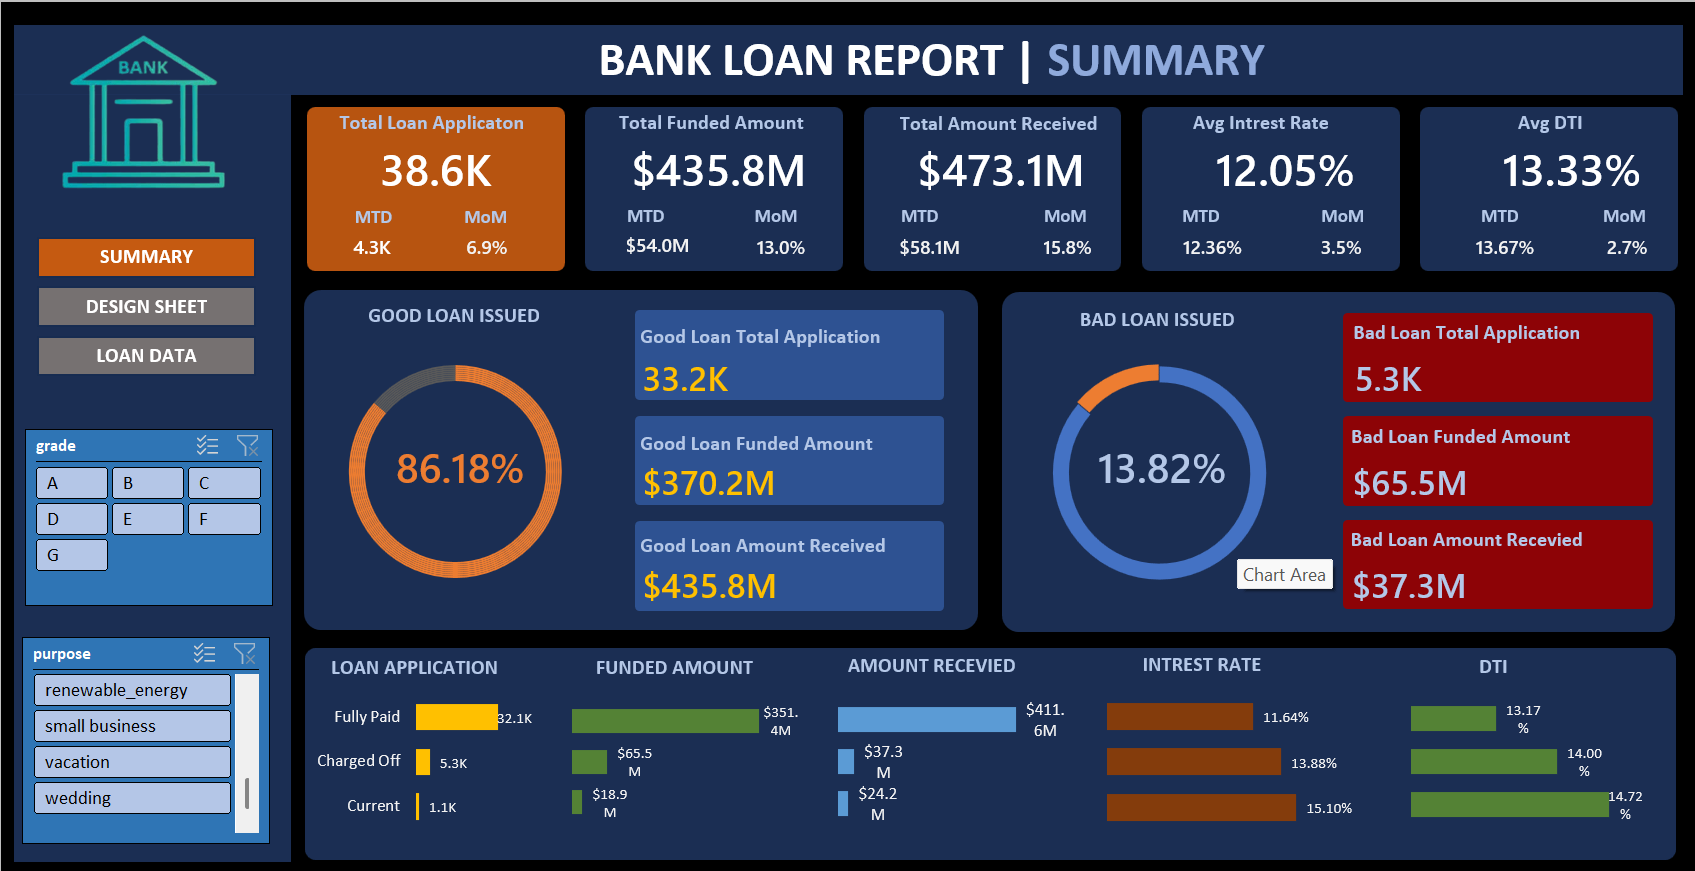

Layout of this report page (visuals, bound fields, positions):
{"tool":"powerbi","page":{"name":"Summary","canvas":[1280,720],"ordinal":0},"visuals":[{"type":"shape","box":[0,0,1279.5,54.5],"z":0},{"type":"shape","box":[0,54.5,192.3,664.7],"z":1000},{"type":"textbox","box":[422.5,0,436.1,57.5],"z":2000},{"type":"shape","box":[420.6,54.5,195.3,116.6],"z":3000,"group":"g2"},{"type":"shape","box":[638.2,54.5,195.3,116.6],"z":3000,"group":"g3"},{"type":"shape","box":[855.9,54.5,195.3,116.6],"z":3000,"group":"g4"},{"type":"shape","box":[1073.6,54.5,195.3,116.6],"z":3000,"group":"g5"},{"type":"shape","box":[202.9,56,195.3,116.6],"z":3000,"group":"g1"},{"type":"shape","box":[207.4,193.8,522.4,260.4],"z":3000},{"type":"card","fields":{"Values":["bank_loan_tb.Total Funded Amount"]},"box":[446.6,55.2,145.4,80.3],"z":4000,"group":"g2"},{"type":"card","fields":{"Values":["bank_loan_tb.Total Amount Received"]},"box":[664.2,55.2,145.4,80.3],"z":4000,"group":"g3"},{"type":"card","fields":{"Values":["bank_loan_tb.Avg Intrest Rate"]},"box":[881.9,55.2,145.4,80.3],"z":4000,"group":"g4"},{"type":"card","fields":{"Values":["bank_loan_tb.Avg DTI"]},"box":[1099.6,55.2,145.4,80.3],"z":4000,"group":"g5"},{"type":"group","id":"g1","title":"Group 1","box":[202.9,56,198.4,116.6],"z":4000},{"type":"card","fields":{"Values":["bank_loan_tb.Bank Loan Application"]},"box":[236.2,60.5,130.2,75.7],"z":4000,"group":"g1"},{"type":"group","id":"g2","title":"Group 1","box":[420.6,54.5,198.4,116.6],"z":5000},{"type":"textbox","box":[420.6,54.5,198.4,28.8],"z":5000,"group":"g2"},{"type":"textbox","box":[638.2,54.5,198.4,28.8],"z":5000,"group":"g3"},{"type":"textbox","box":[855.9,54.5,198.4,28.8],"z":5000,"group":"g4"},{"type":"textbox","box":[1073.6,54.5,198.4,28.8],"z":5000,"group":"g5"},{"type":"textbox","box":[202.9,56,198.4,28.8],"z":5000,"group":"g1"},{"type":"card","title":"MTD","fields":{"Values":["bank_loan_tb.MTD Funded Amount"]},"box":[446.6,118.8,65.1,53],"z":6000,"group":"g2"},{"type":"card","title":"MTD","fields":{"Values":["bank_loan_tb.MTD Total Amount Received"]},"box":[664.2,118.8,65.1,53],"z":6000,"group":"g3"},{"type":"card","title":"MTD","fields":{"Values":["bank_loan_tb.MTD Avg Intrest Rate"]},"box":[881.9,118.8,65.1,53],"z":6000,"group":"g4"},{"type":"card","title":"MTD","fields":{"Values":["bank_loan_tb.MTD Avg DTI Rate"]},"box":[1099.6,118.8,65.1,53],"z":6000,"group":"g5"},{"type":"card","title":"MTD","fields":{"Values":["bank_loan_tb.MTD Loan Application"]},"box":[224.1,122.6,51.5,50],"z":6000,"group":"g1"},{"type":"card","fields":{"Values":["bank_loan_tb.Good Loan Percentage"]},"box":[252.9,304.4,125.7,80.3],"z":6000},{"type":"group","id":"g3","title":"Group 1","box":[638.2,54.5,198.4,116.6],"z":7000},{"type":"card","title":"MoM","fields":{"Values":["bank_loan_tb.MoM Funded Amount"]},"box":[532.9,118.8,62.1,53],"z":7000,"group":"g2"},{"type":"card","title":"MoM","fields":{"Values":["bank_loan_tb.MoM Total Amount Received"]},"box":[750.5,118.8,62.1,53],"z":7000,"group":"g3"},{"type":"card","title":"MoM","fields":{"Values":["bank_loan_tb.MoM Intrest Rate"]},"box":[968.2,118.8,62.1,53],"z":7000,"group":"g4"},{"type":"card","title":"MoM","fields":{"Values":["bank_loan_tb.MoM Avg DTI Rate"]},"box":[1185.9,118.8,62.1,53],"z":7000,"group":"g5"},{"type":"card","title":"MoM","fields":{"Values":["bank_loan_tb.MoM Loan Application"]},"box":[315,122.6,51.5,50],"z":7000,"group":"g1"},{"type":"group","id":"g4","title":"Group 1","box":[855.9,54.5,198.4,116.6],"z":8000},{"type":"donutChart","fields":{"Category":["bank_loan_tb.Good vs Bad Loans"],"Y":["bank_loan_tb.Total Loan Application"]},"box":[192.3,234.7,239.2,219.6],"z":9000},{"type":"group","id":"g5","title":"Group 1","box":[1073.6,54.5,198.4,116.6],"z":10000},{"type":"shape","box":[748,193.8,520.9,258.9],"z":11000},{"type":"textbox","box":[207.4,199.9,209,33.3],"z":12000},{"type":"cardVisual","fields":{"Data":["bank_loan_tb.Good Loan Application","bank_loan_tb.Good Loan Funded Amount","bank_loan_tb.Good Loan Received Amount"]},"box":[427,192.3,298.3,260.4],"z":13000},{"type":"donutChart","fields":{"Category":["bank_loan_tb.Good vs Bad Loans"],"Y":["bank_loan_tb.Total Loan Application"]},"box":[738.9,233.2,239.2,219.6],"z":14000},{"type":"card","fields":{"Values":["bank_loan_tb.Bad Loan Percentage"]},"box":[796.5,302.8,125.7,80.3],"z":15000},{"type":"textbox","box":[787.4,199.9,146.9,36.3],"z":16000},{"type":"shape","box":[202.9,469.4,1066,243.8],"z":17000},{"type":"cardVisual","fields":{"Data":["bank_loan_tb.Bad Loan Application","bank_loan_tb.Bad Loan Funded Amount","bank_loan_tb.Bad Loan Received Amount"]},"box":[978.2,193.8,298.3,260.4],"z":18000},{"type":"tableEx","fields":{"Values":["bank_loan_tb.loan_status","bank_loan_tb.Total Loan Application","bank_loan_tb.Total Funded Amount","bank_loan_tb.Total Amount Received","bank_loan_tb.MTD Funded Amount","bank_loan_tb.MTD Total Amount Received","bank_loan_tb.Avg Intrest Rate","bank_loan_tb.Avg DTI"]},"box":[207.4,505.7,1061.5,196.8],"z":19000},{"type":"textbox","box":[207.4,469.4,109,36.3],"z":20000},{"type":"slicer","fields":{"Values":["bank_loan_tb.address_state"]},"box":[13.6,404.3,166.6,48.5],"z":21000},{"type":"textbox","box":[15.1,372.5,98.4,31.8],"z":22000},{"type":"slicer","fields":{"Values":["bank_loan_tb.grade"]},"box":[13.6,505.7,166.6,48.5],"z":23000},{"type":"textbox","box":[15.1,470.9,98.4,31.8],"z":24000},{"type":"slicer","fields":{"Values":["bank_loan_tb.purpose"]},"box":[13.6,604.2,166.6,48.5],"z":25000},{"type":"textbox","box":[13.6,572.4,98.4,31.8],"z":26000},{"type":"image","box":[13.6,3,166.6,168.1],"z":27000},{"type":"pageNavigator","box":[0,186.2,192.3,157.5],"z":28000}]}

Visuals, with their boxes on the page's 1280x720 design canvas (x1, y1, x2, y2). These are canvas units, not pixel positions in the 1695x871 screenshot, which may show the page scaled, cropped or inside an application window:
shape: <bbox>0, 0, 1280, 54</bbox>
shape: <bbox>0, 54, 192, 719</bbox>
textbox: <bbox>422, 0, 859, 58</bbox>
shape: <bbox>421, 54, 616, 171</bbox>
shape: <bbox>638, 54, 834, 171</bbox>
shape: <bbox>856, 54, 1051, 171</bbox>
shape: <bbox>1074, 54, 1269, 171</bbox>
shape: <bbox>203, 56, 398, 173</bbox>
shape: <bbox>207, 194, 730, 454</bbox>
card - bank_loan_tb.Total Funded Amount: <bbox>447, 55, 592, 136</bbox>
card - bank_loan_tb.Total Amount Received: <bbox>664, 55, 810, 136</bbox>
card - bank_loan_tb.Avg Intrest Rate: <bbox>882, 55, 1027, 136</bbox>
card - bank_loan_tb.Avg DTI: <bbox>1100, 55, 1245, 136</bbox>
"Group 1" group: <bbox>203, 56, 401, 173</bbox>
card - bank_loan_tb.Bank Loan Application: <bbox>236, 60, 366, 136</bbox>
"Group 1" group: <bbox>421, 54, 619, 171</bbox>
textbox: <bbox>421, 54, 619, 83</bbox>
textbox: <bbox>638, 54, 837, 83</bbox>
textbox: <bbox>856, 54, 1054, 83</bbox>
textbox: <bbox>1074, 54, 1272, 83</bbox>
textbox: <bbox>203, 56, 401, 85</bbox>
"MTD" card: <bbox>447, 119, 512, 172</bbox>
"MTD" card: <bbox>664, 119, 729, 172</bbox>
"MTD" card: <bbox>882, 119, 947, 172</bbox>
"MTD" card: <bbox>1100, 119, 1165, 172</bbox>
"MTD" card: <bbox>224, 123, 276, 173</bbox>
card - bank_loan_tb.Good Loan Percentage: <bbox>253, 304, 379, 385</bbox>
"Group 1" group: <bbox>638, 54, 837, 171</bbox>
"MoM" card: <bbox>533, 119, 595, 172</bbox>
"MoM" card: <bbox>750, 119, 813, 172</bbox>
"MoM" card: <bbox>968, 119, 1030, 172</bbox>
"MoM" card: <bbox>1186, 119, 1248, 172</bbox>
"MoM" card: <bbox>315, 123, 366, 173</bbox>
"Group 1" group: <bbox>856, 54, 1054, 171</bbox>
donutChart - bank_loan_tb.Good vs Bad Loans x bank_loan_tb.Total Loan Application: <bbox>192, 235, 432, 454</bbox>
"Group 1" group: <bbox>1074, 54, 1272, 171</bbox>
shape: <bbox>748, 194, 1269, 453</bbox>
textbox: <bbox>207, 200, 416, 233</bbox>
cardVisual - bank_loan_tb.Good Loan Application x bank_loan_tb.Good Loan Funded Amount: <bbox>427, 192, 725, 453</bbox>
donutChart - bank_loan_tb.Good vs Bad Loans x bank_loan_tb.Total Loan Application: <bbox>739, 233, 978, 453</bbox>
card - bank_loan_tb.Bad Loan Percentage: <bbox>796, 303, 922, 383</bbox>
textbox: <bbox>787, 200, 934, 236</bbox>
shape: <bbox>203, 469, 1269, 713</bbox>
cardVisual - bank_loan_tb.Bad Loan Application x bank_loan_tb.Bad Loan Funded Amount: <bbox>978, 194, 1276, 454</bbox>
tableEx - bank_loan_tb.loan_status x bank_loan_tb.Total Loan Application: <bbox>207, 506, 1269, 702</bbox>
textbox: <bbox>207, 469, 316, 506</bbox>
slicer - bank_loan_tb.address_state: <bbox>14, 404, 180, 453</bbox>
textbox: <bbox>15, 372, 114, 404</bbox>
slicer - bank_loan_tb.grade: <bbox>14, 506, 180, 554</bbox>
textbox: <bbox>15, 471, 114, 503</bbox>
slicer - bank_loan_tb.purpose: <bbox>14, 604, 180, 653</bbox>
textbox: <bbox>14, 572, 112, 604</bbox>
image: <bbox>14, 3, 180, 171</bbox>
pageNavigator: <bbox>0, 186, 192, 344</bbox>
